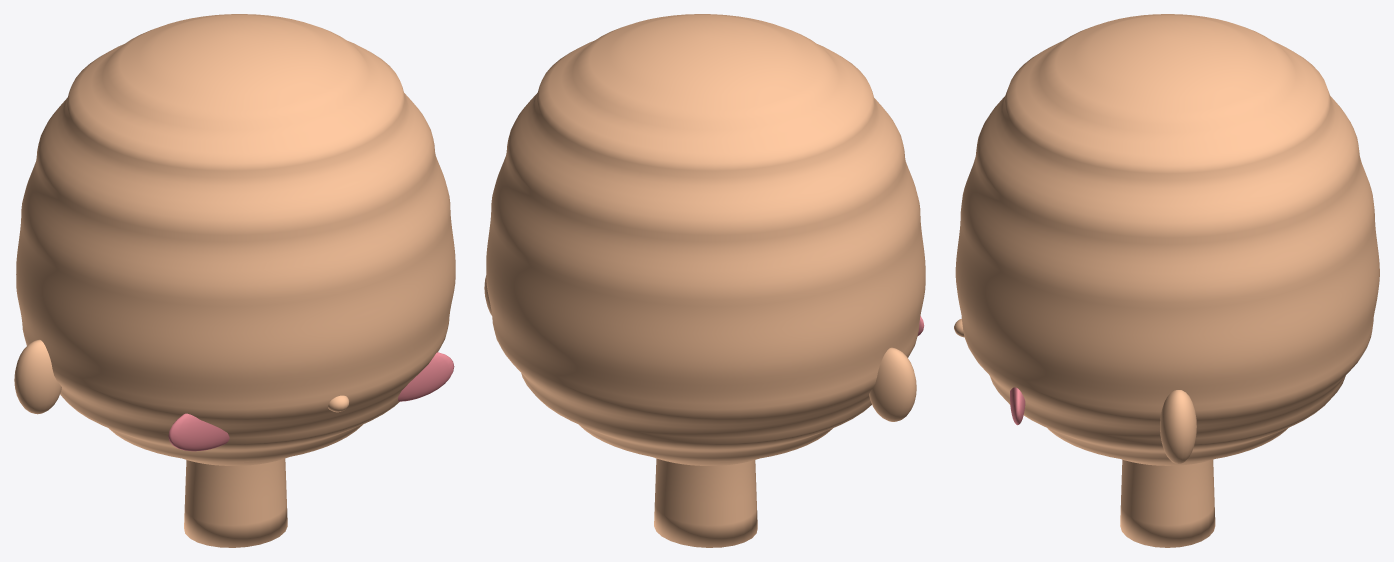
The model's file is head.glb.
3 views of the same model, side by side, from view 1: azimuth 30°, elevation 25°; view 2: azimuth 150°, elevation 25°; view 3: azimuth 270°, elevation 25° (orthographic).
Visible parts, largest first — view 1: skull, neck, blush, ears; view 2: skull, neck, ears; view 3: skull, neck, ears.
Part boxes in pixels (x1=…): skull: x1=16, y1=14, x2=455, y2=465; neck: x1=184, y1=458, x2=287, y2=547; blush: x1=168, y1=352, x2=454, y2=451; ears: x1=14, y1=339, x2=61, y2=414; skull: x1=486, y1=14, x2=925, y2=465; neck: x1=654, y1=458, x2=757, y2=547; ears: x1=484, y1=275, x2=916, y2=421; skull: x1=955, y1=14, x2=1379, y2=465; neck: x1=1120, y1=459, x2=1215, y2=547; ears: x1=1160, y1=390, x2=1196, y2=463.
Bounding box in the file's own units: 0.93 × 1.02 × 0.8044.
